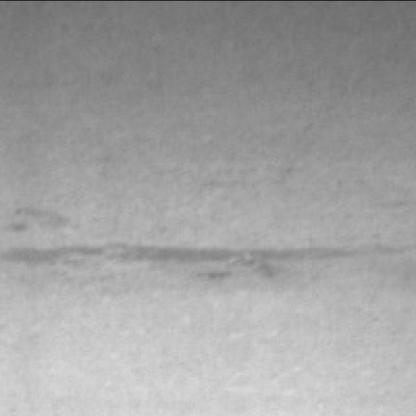inclusion: (75, 235, 416, 287), (6, 208, 123, 277)
